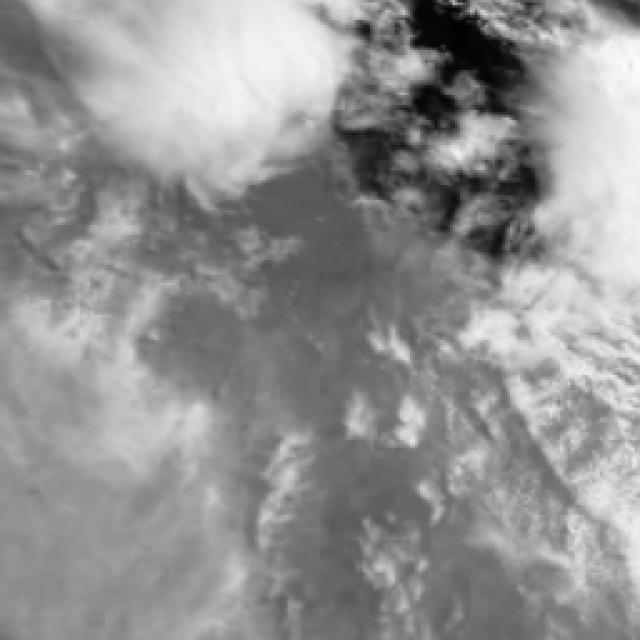CB: (159, 3, 293, 128), (587, 74, 640, 237)
